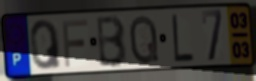7: (200, 7, 224, 64)
B: (96, 14, 129, 69)
F: (60, 18, 90, 69)
L: (170, 12, 196, 63)
Q: (28, 18, 63, 72), (128, 13, 161, 67)
